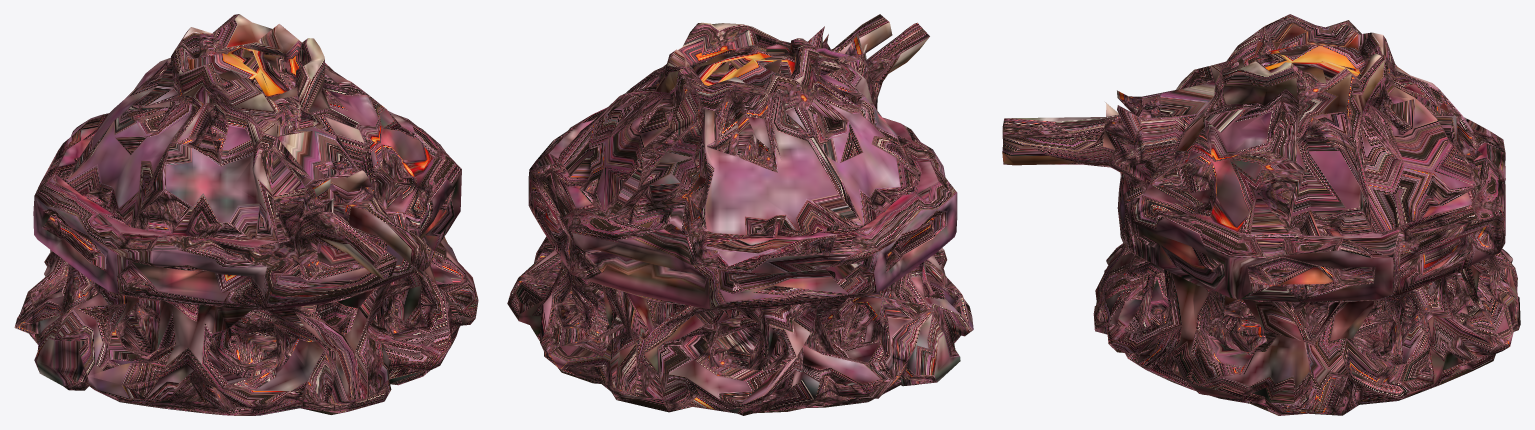
The picture shows the model from 3 angles, left to right: view 1: azimuth 30°, elevation 25°; view 2: azimuth 150°, elevation 25°; view 3: azimuth 270°, elevation 25°; orthographic projection.
Bounding box in the file's own units: 0.8843 × 0.6001 × 1.
1 material, 1 textured.
